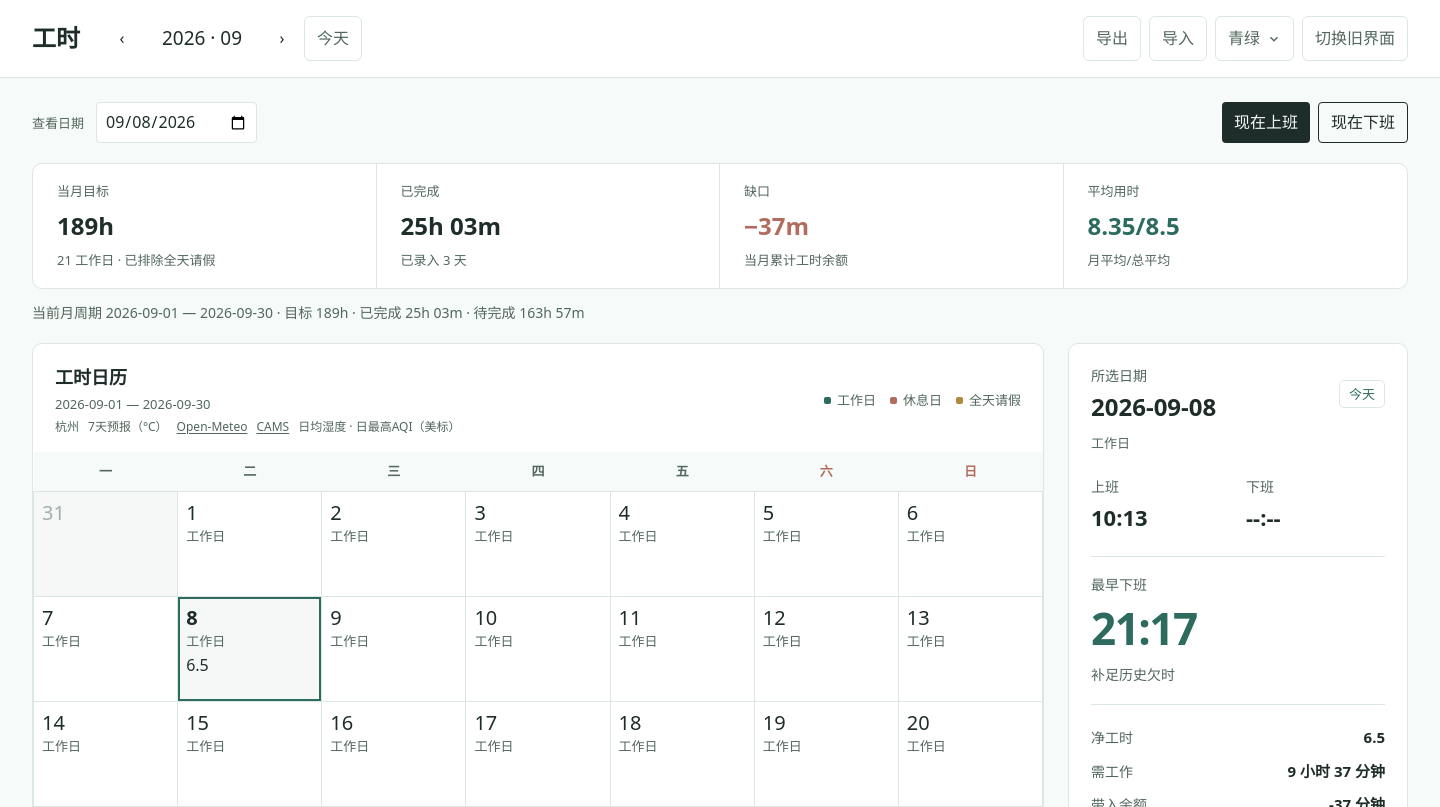
reports a failed post-save refresh without issuing an unverified minimum-hours warning
Click the button with aria-label "选择 2026-09-08" at (250, 649), box x1=178 y1=597 x2=321 y2=701
(page scrolled)
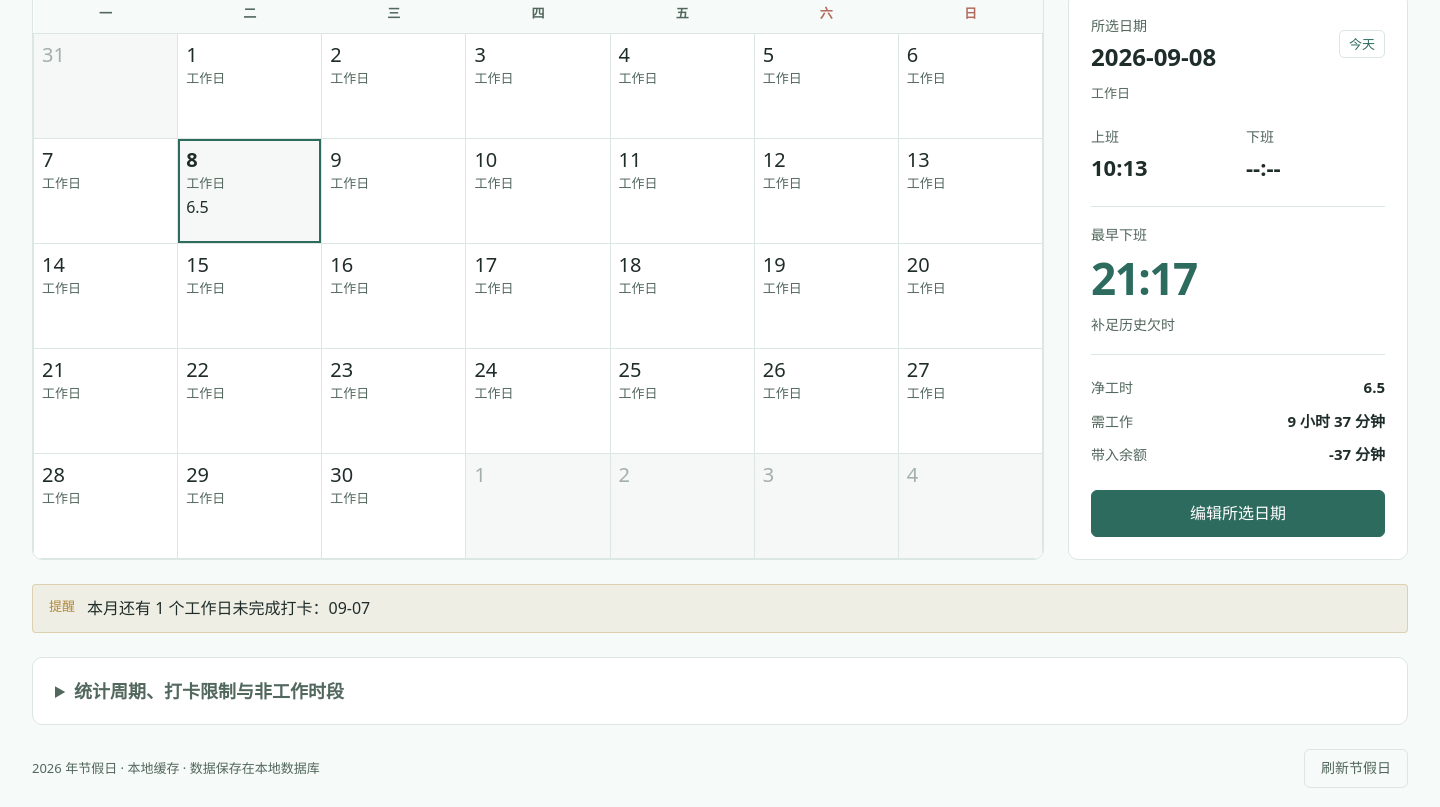
Click the button "编辑所选日期" at (1238, 513), box x1=1091 y1=490 x2=1385 y2=537
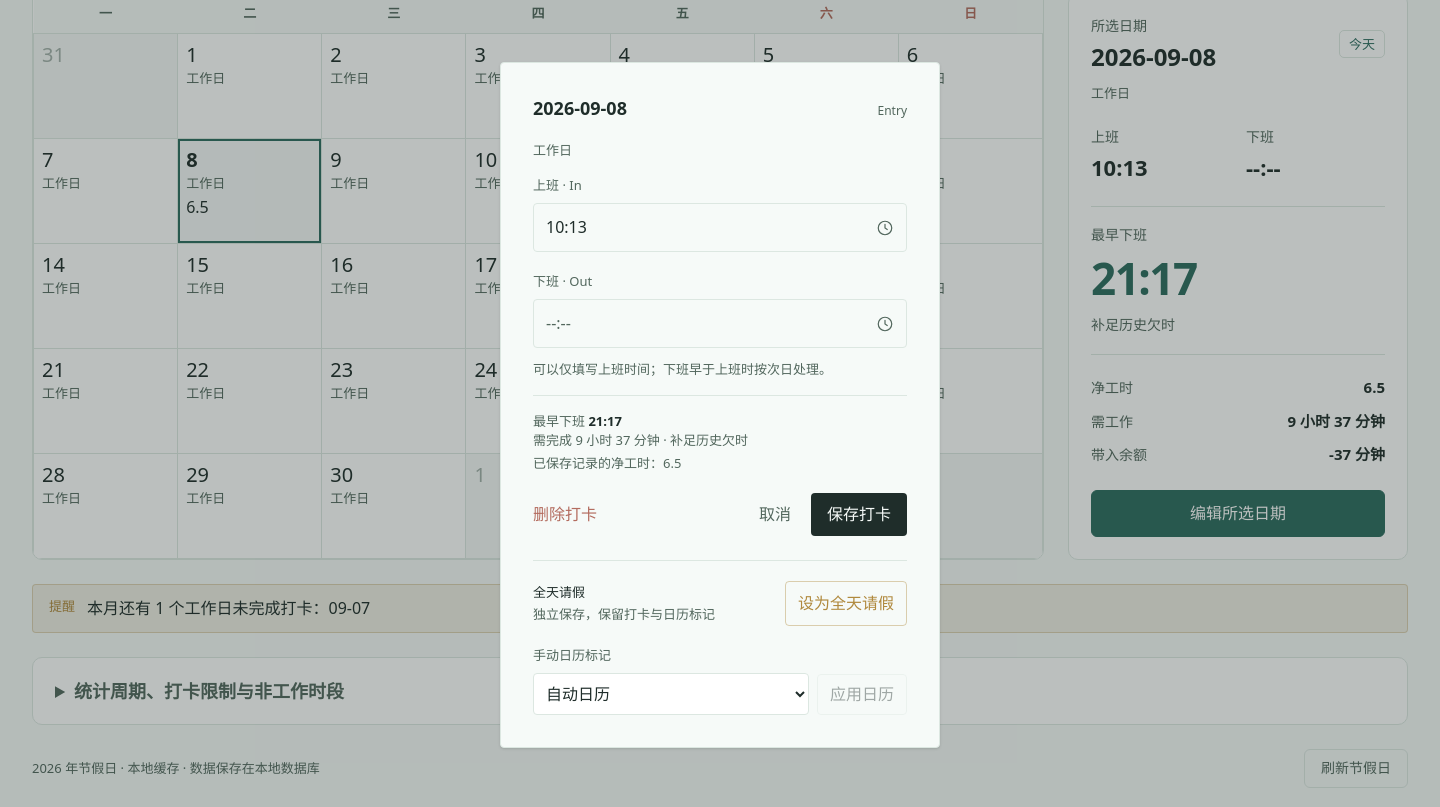
expect the dialog is shown: met, box x1=500 y1=62 x2=940 y2=748
Click the button "保存打卡" at (859, 514), box x1=811 y1=493 x2=907 y2=536
(page scrolled)
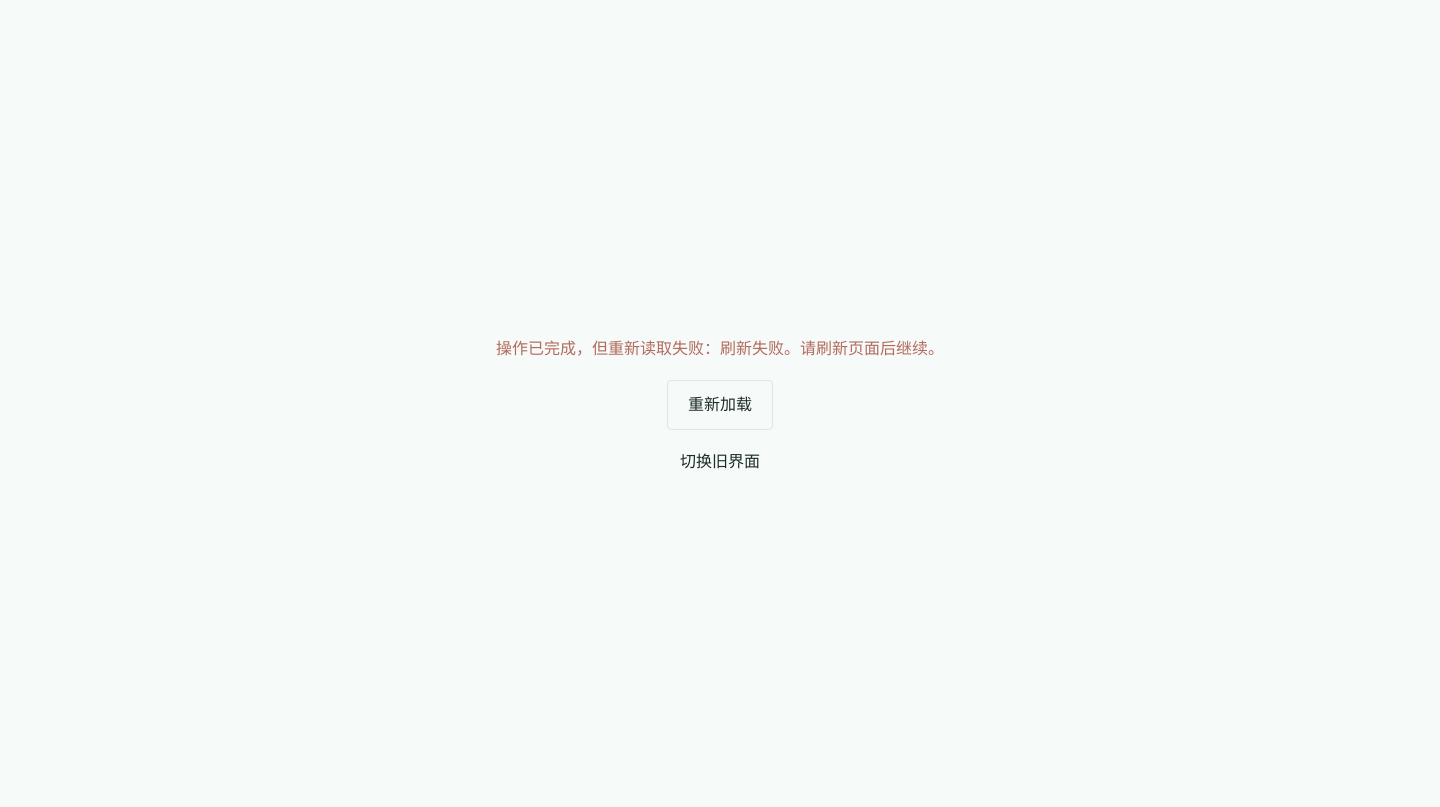
expect the message shows "操作已完成，但重新读取失败": met, box x1=496 y1=337 x2=944 y2=359
